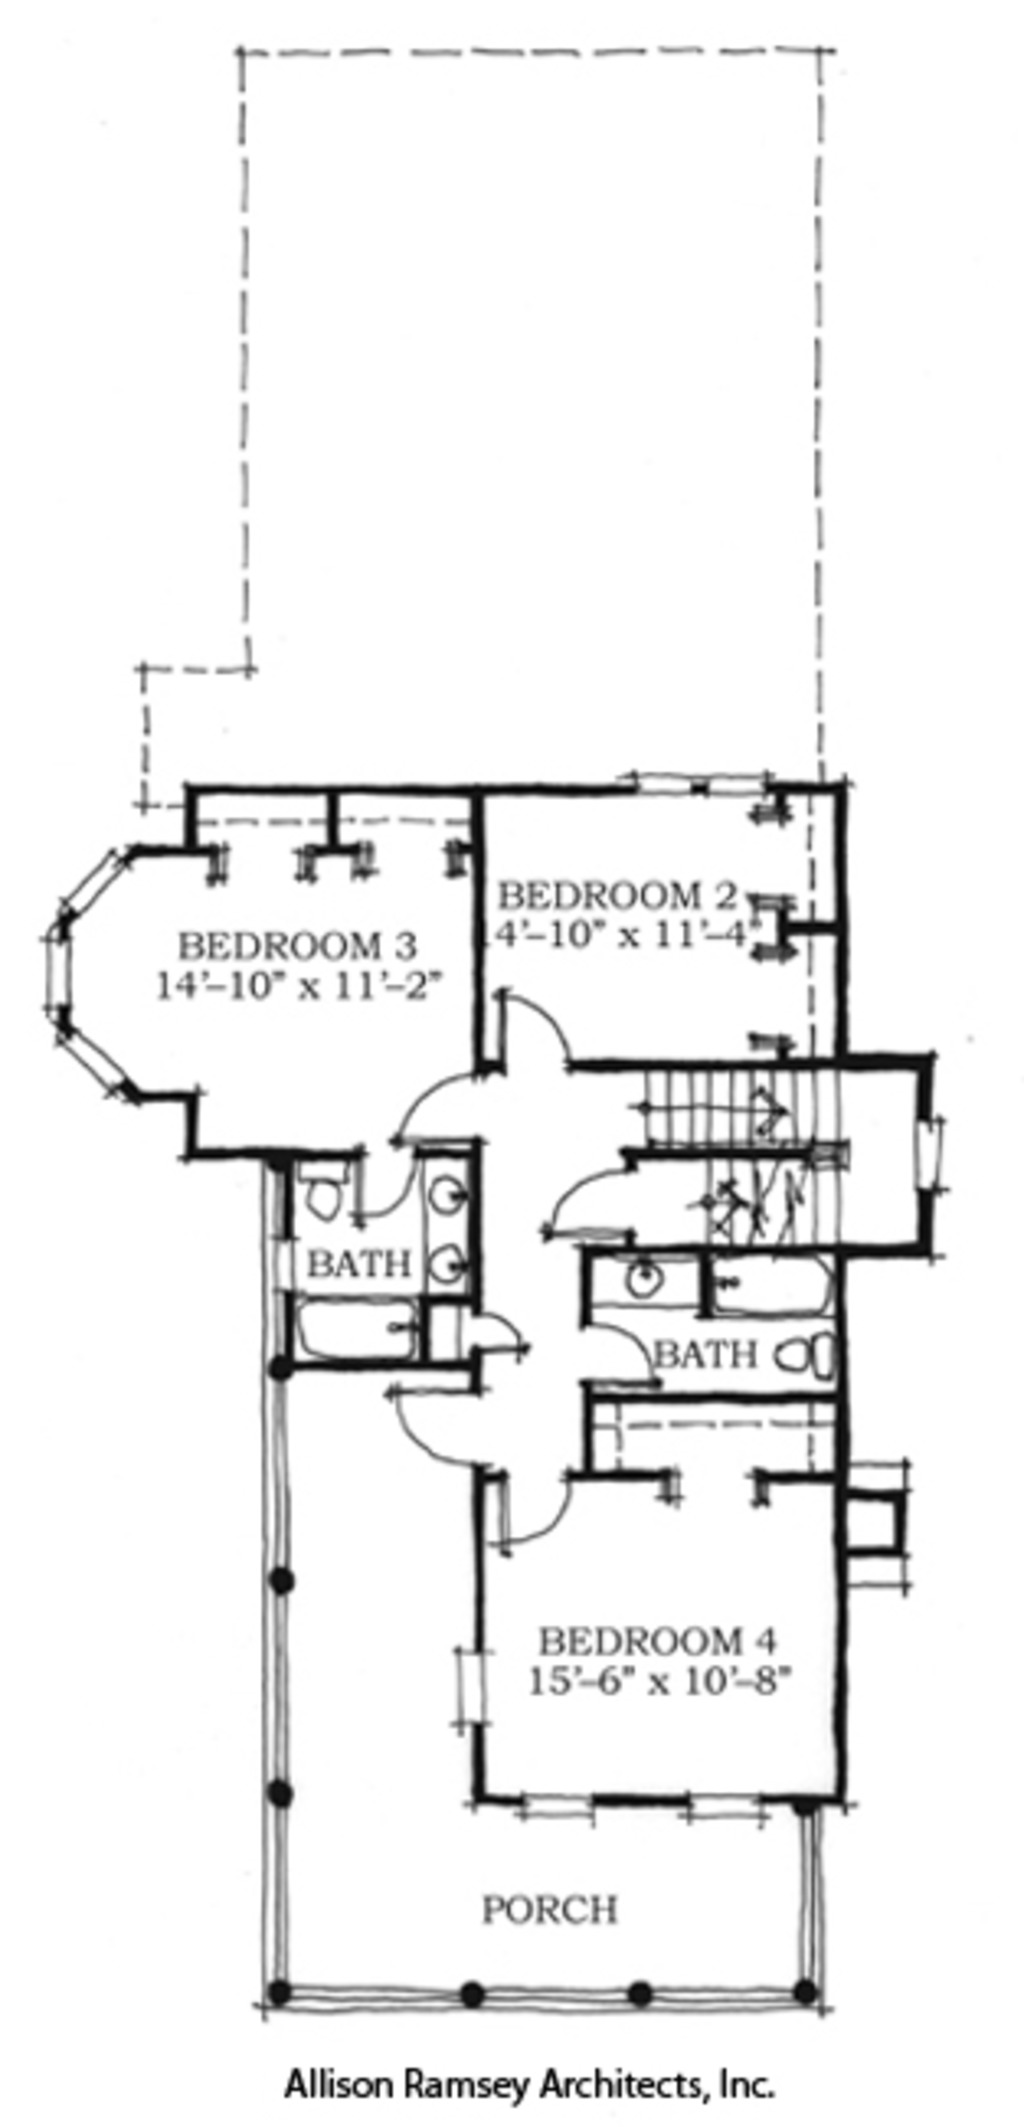door: (391, 1066, 492, 1158), (381, 1377, 479, 1460), (551, 1167, 650, 1245), (579, 1319, 671, 1403), (490, 1468, 576, 1552), (496, 986, 576, 1070)
